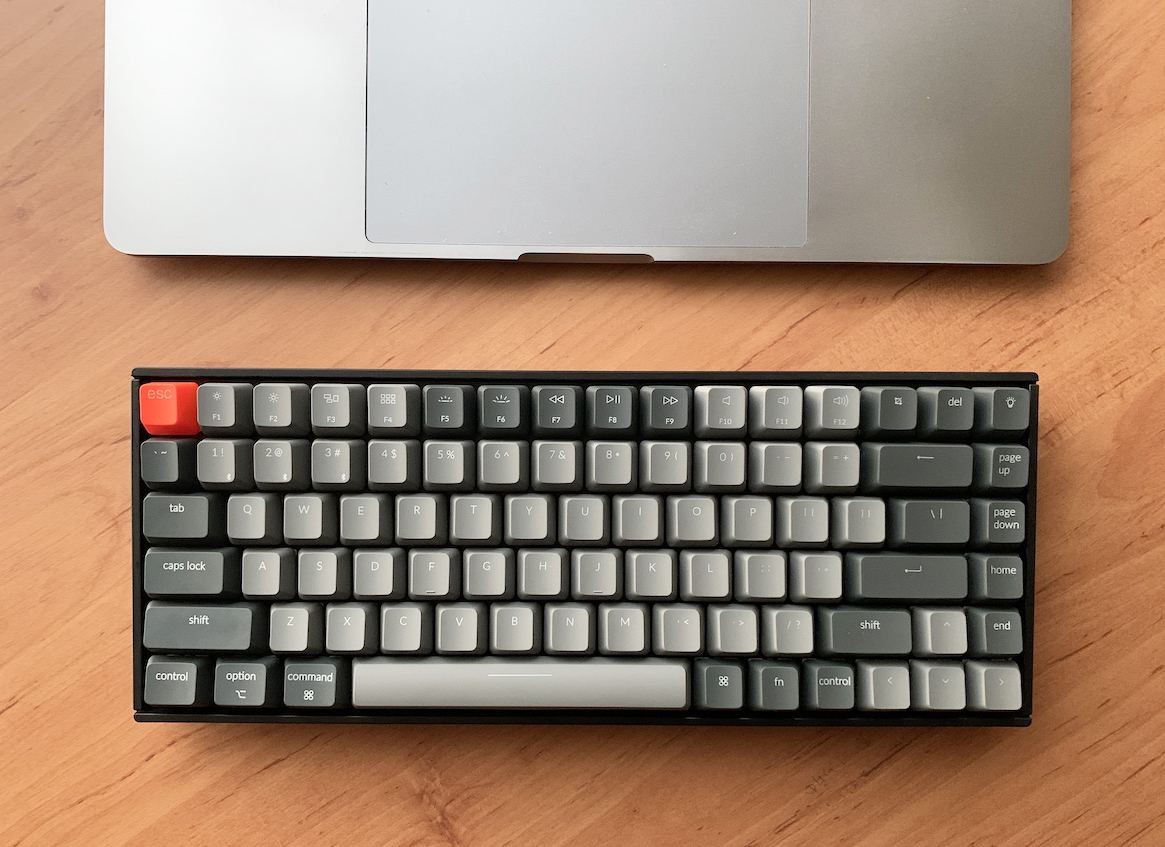keyboard: (113, 348, 1047, 752)
